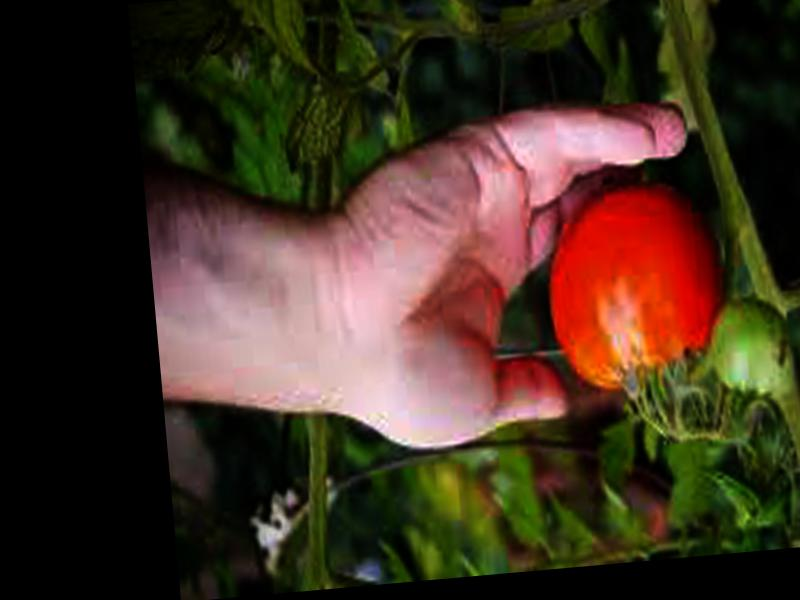Tomato: (539, 177, 736, 399)
